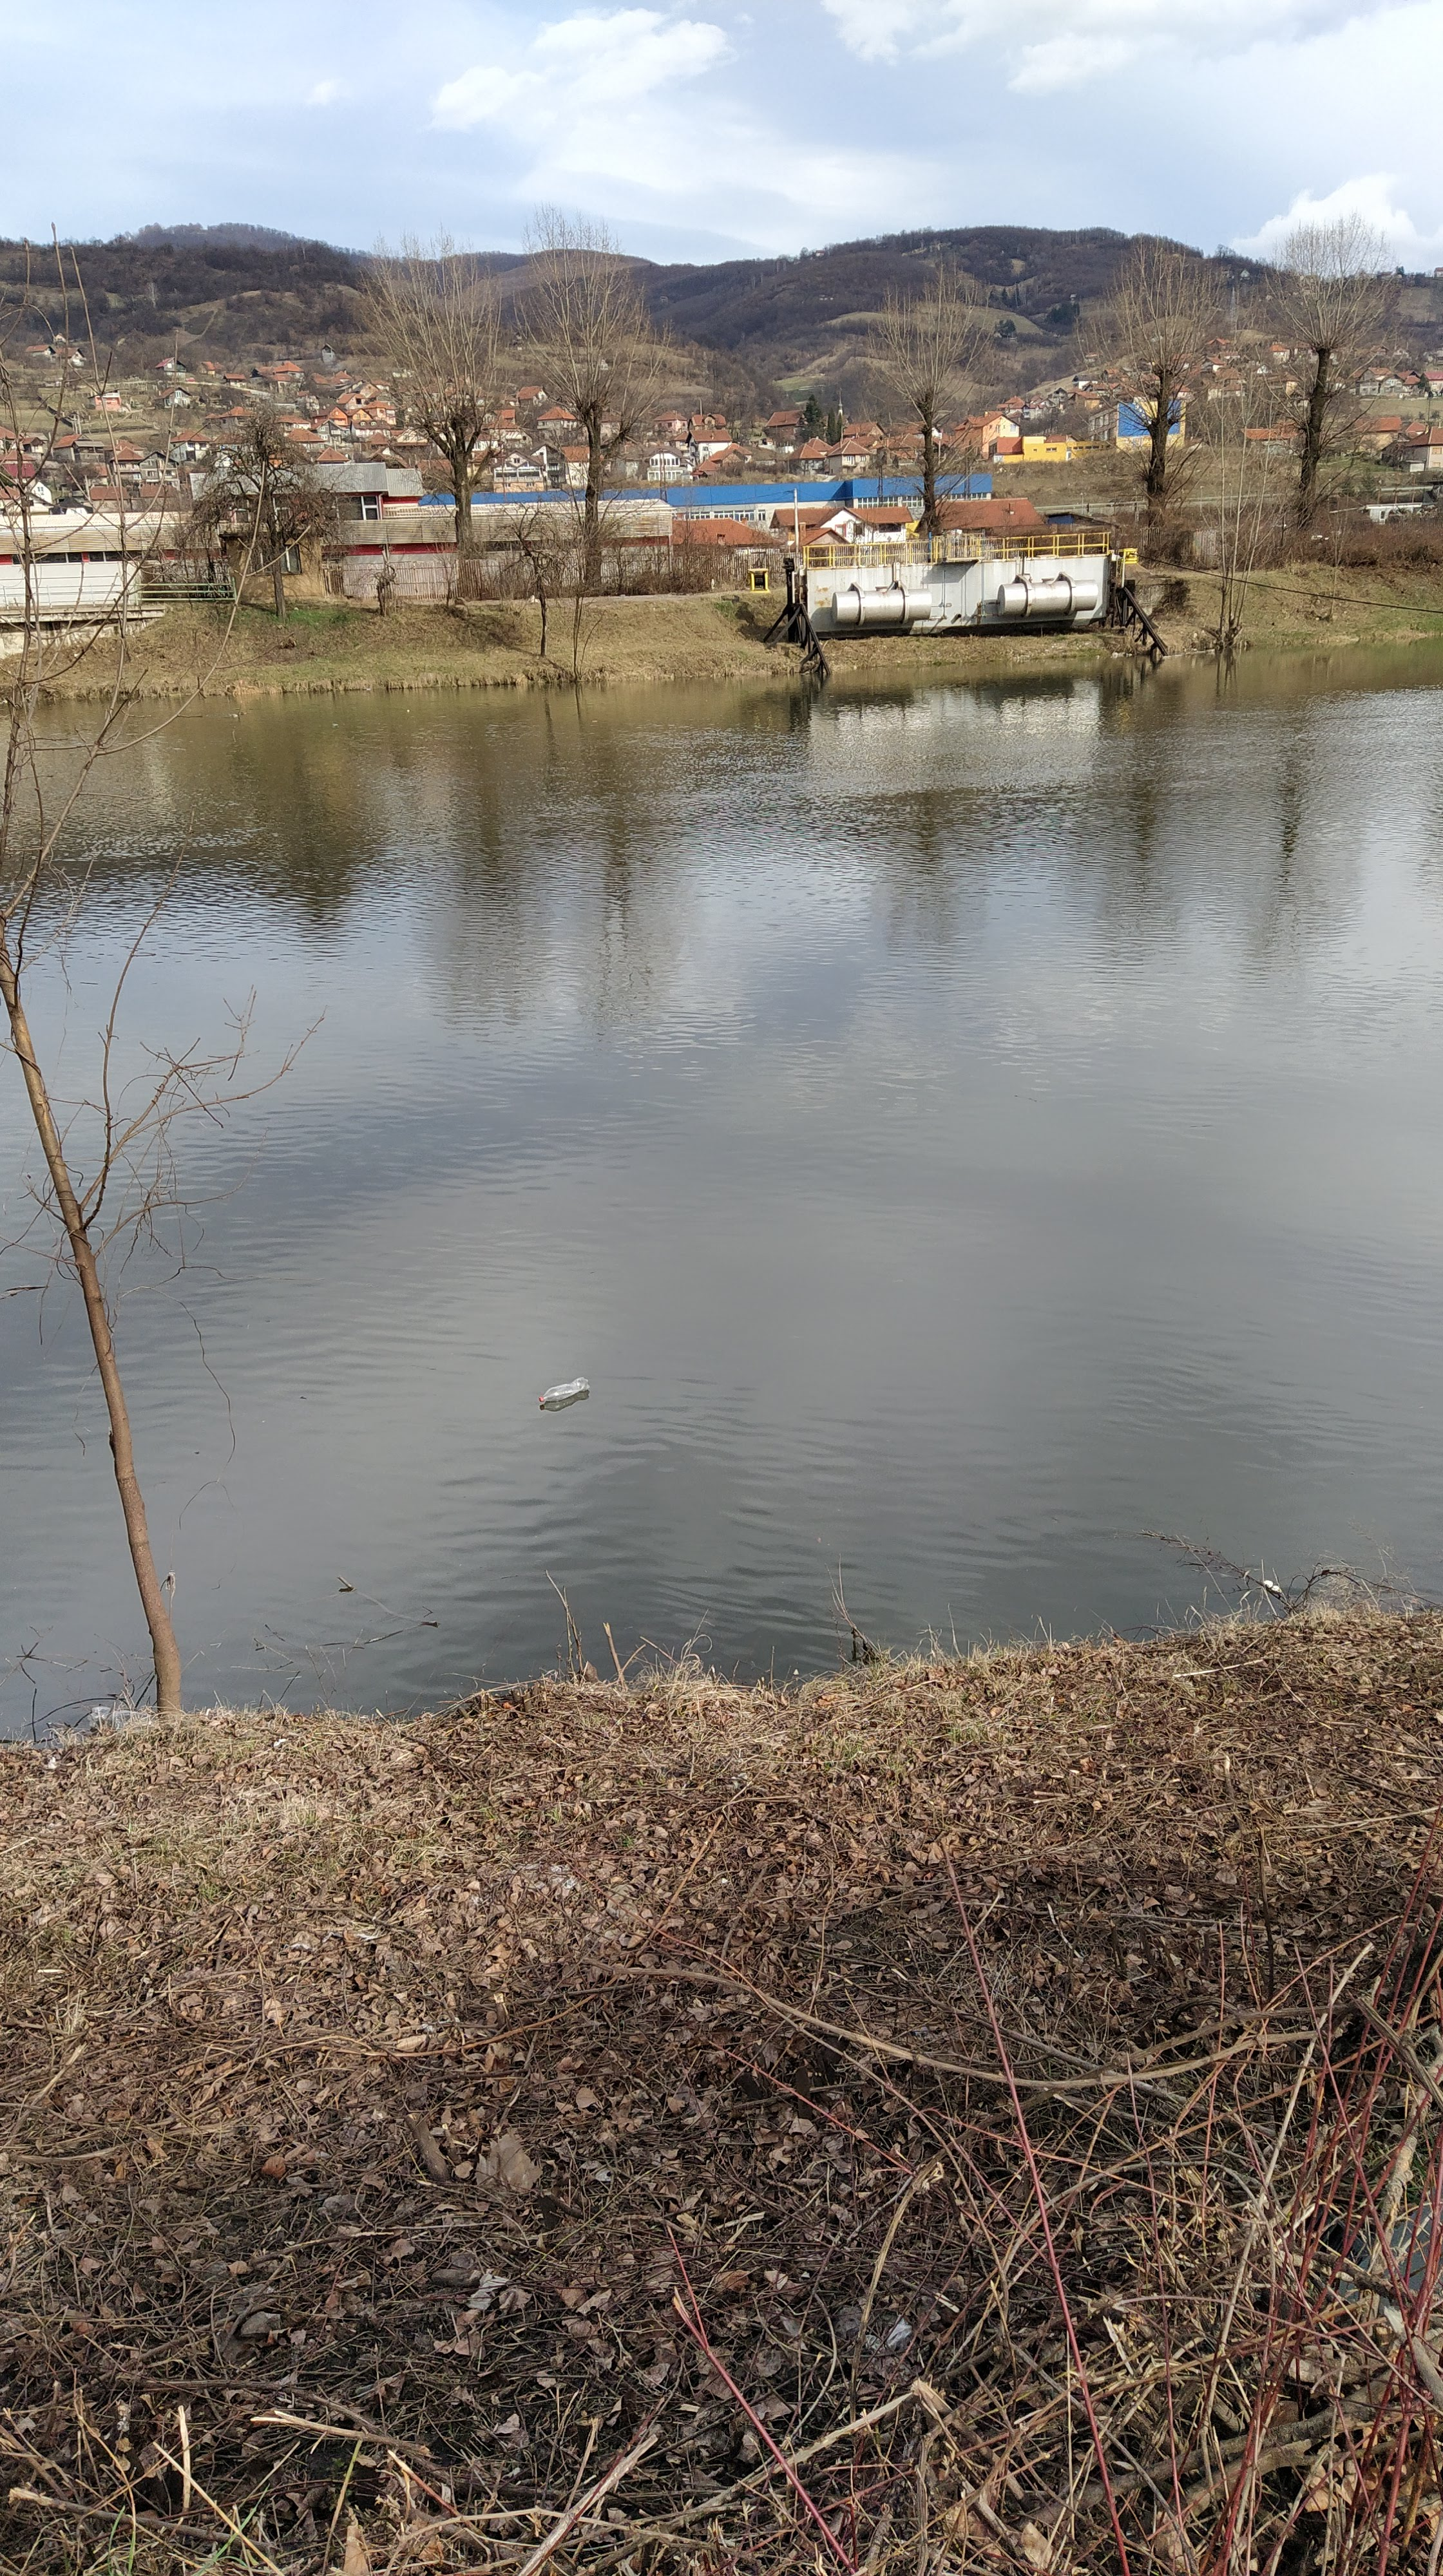Plastic Bottle: (540, 1376, 590, 1403), (87, 1706, 147, 1725)
